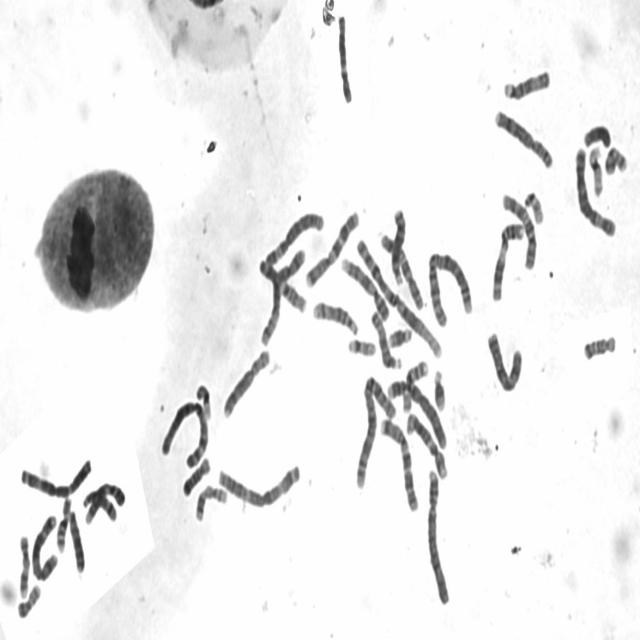A1: (351, 231, 444, 360), (157, 392, 210, 470)
A2: (352, 367, 398, 492), (424, 243, 474, 329)
A3: (214, 454, 303, 510), (17, 451, 93, 499)
B4: (384, 371, 450, 450), (423, 461, 453, 607)
B5: (257, 240, 307, 348), (28, 507, 60, 583)
C10: (377, 226, 425, 311), (498, 185, 539, 271)
C11: (489, 214, 526, 303), (258, 258, 308, 316)
C12: (403, 404, 450, 480), (334, 5, 354, 104)
C6: (572, 140, 618, 238), (262, 204, 326, 267)
C7: (302, 204, 361, 289), (376, 410, 420, 513)
C8: (491, 101, 555, 170), (219, 342, 272, 421)
C9: (338, 250, 390, 322), (80, 479, 126, 526)
D13: (388, 201, 408, 286), (65, 503, 87, 574)
D14: (309, 293, 360, 337), (82, 491, 119, 524)
D15: (368, 303, 403, 372), (500, 62, 552, 102)
E16: (400, 354, 430, 414), (53, 491, 73, 554)
E17: (192, 478, 228, 524), (15, 527, 31, 600)
E18: (179, 454, 212, 497), (580, 327, 618, 362)
F19: (586, 139, 604, 198), (344, 331, 377, 357)
F20: (15, 577, 43, 619), (602, 139, 630, 176)
G21: (386, 319, 414, 350), (430, 362, 447, 412)
G22: (520, 183, 546, 226), (192, 376, 213, 421)
X: (484, 323, 525, 395)
Y: (580, 116, 613, 149)
